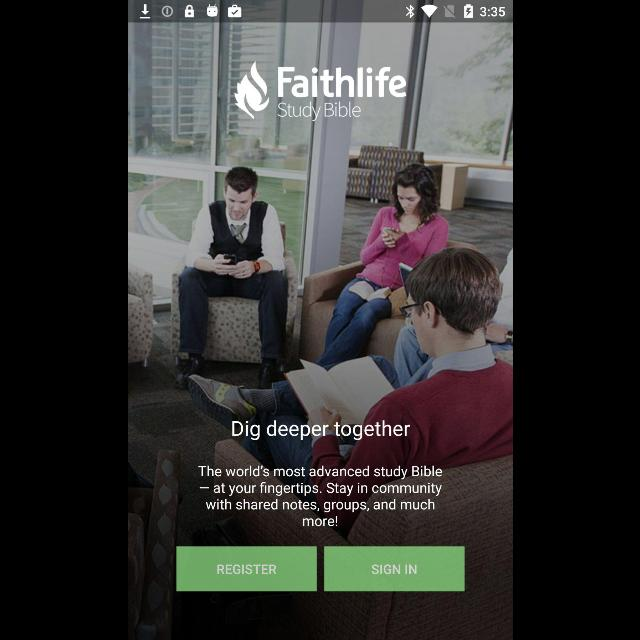backgroundimage: (128, 22, 512, 640)
image: (232, 60, 406, 121)
text: (196, 465, 442, 527), (230, 420, 410, 440)
textbutton: (324, 546, 464, 592), (176, 546, 316, 592)
uppertaskbar: (128, 1, 512, 23)
